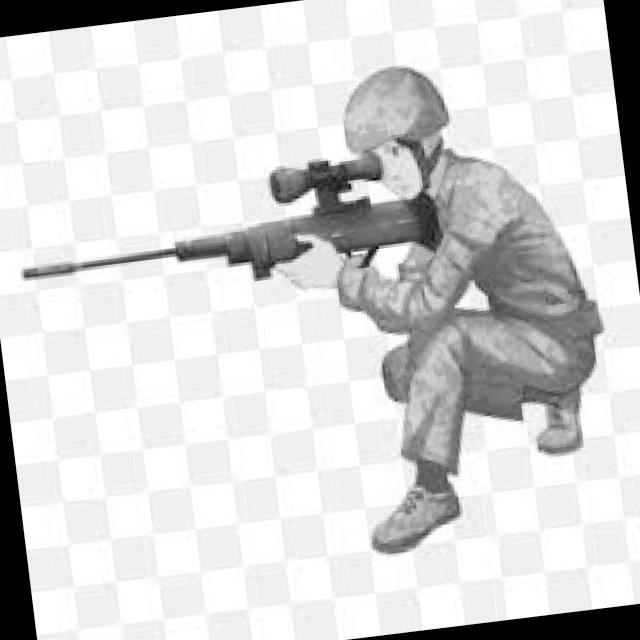gun: (8, 141, 446, 312)
